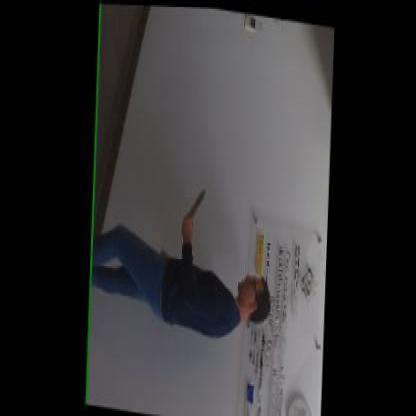knife: (179, 180, 206, 234)
